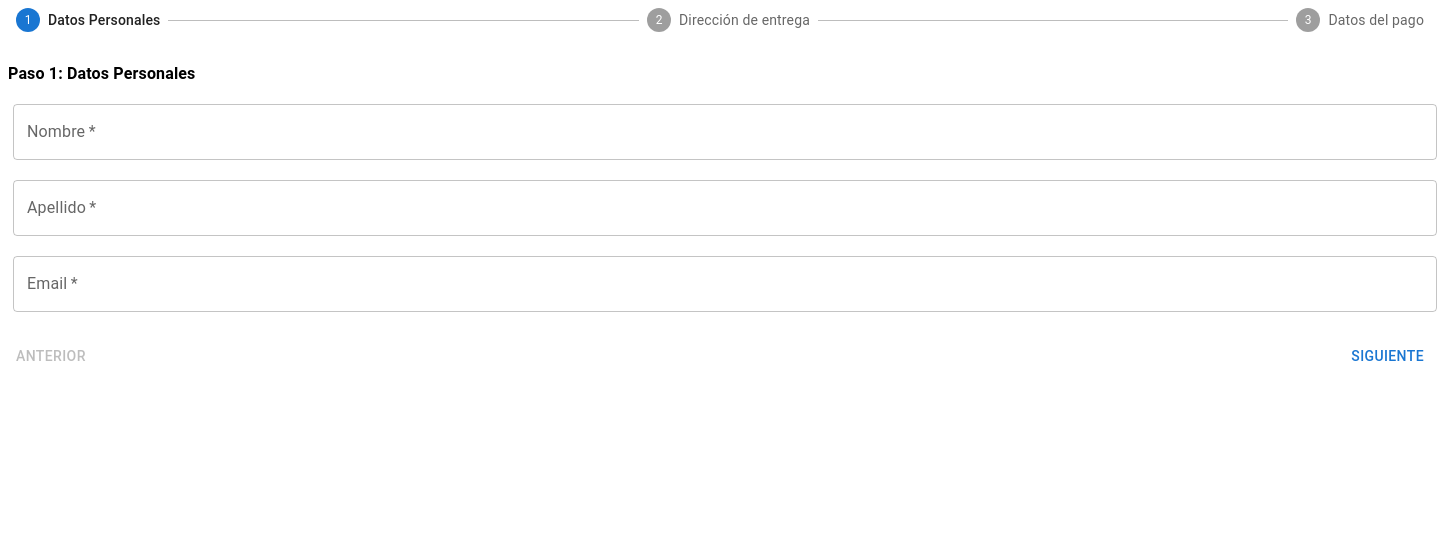
Scenario: Stepper.spec.tsx › when filling form › should navigate to next and previous form
Check: the button "Anterior" has attribute disabled, box top-left (8, 338), bottom-right (94, 374)
In the field labelled "Nombre *": (725, 132) top-left (13, 104), bottom-right (1437, 160), type "Sara"
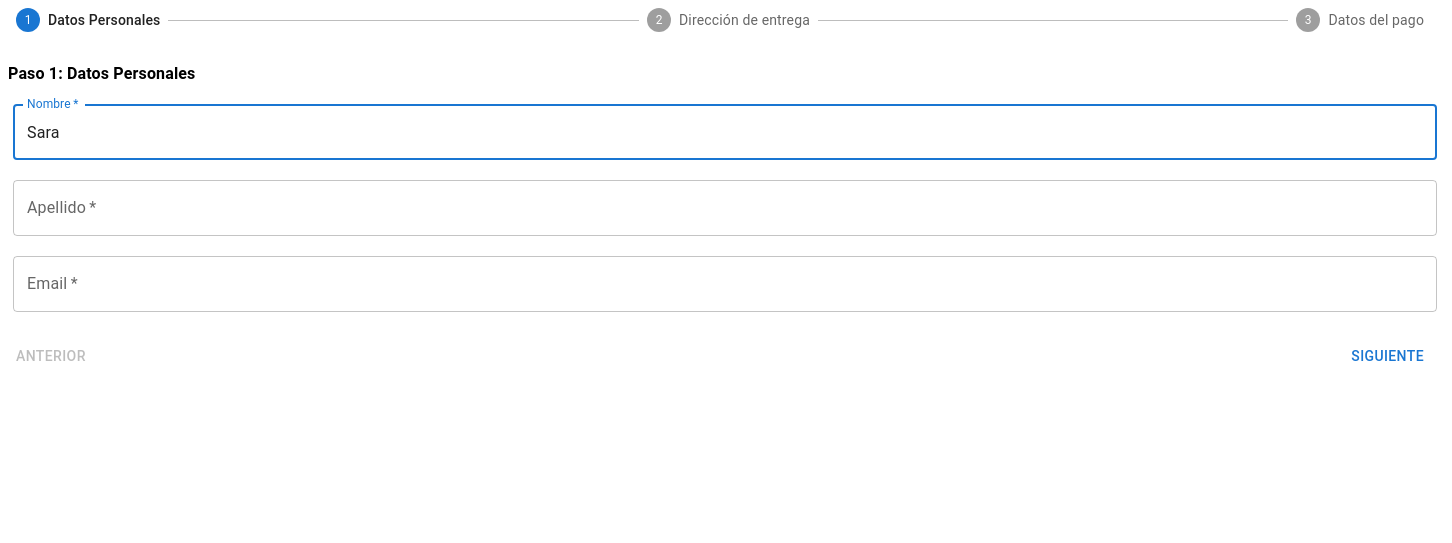
In the field labelled "Apellido *": (725, 208) top-left (13, 180), bottom-right (1437, 236), type "Ramírez"
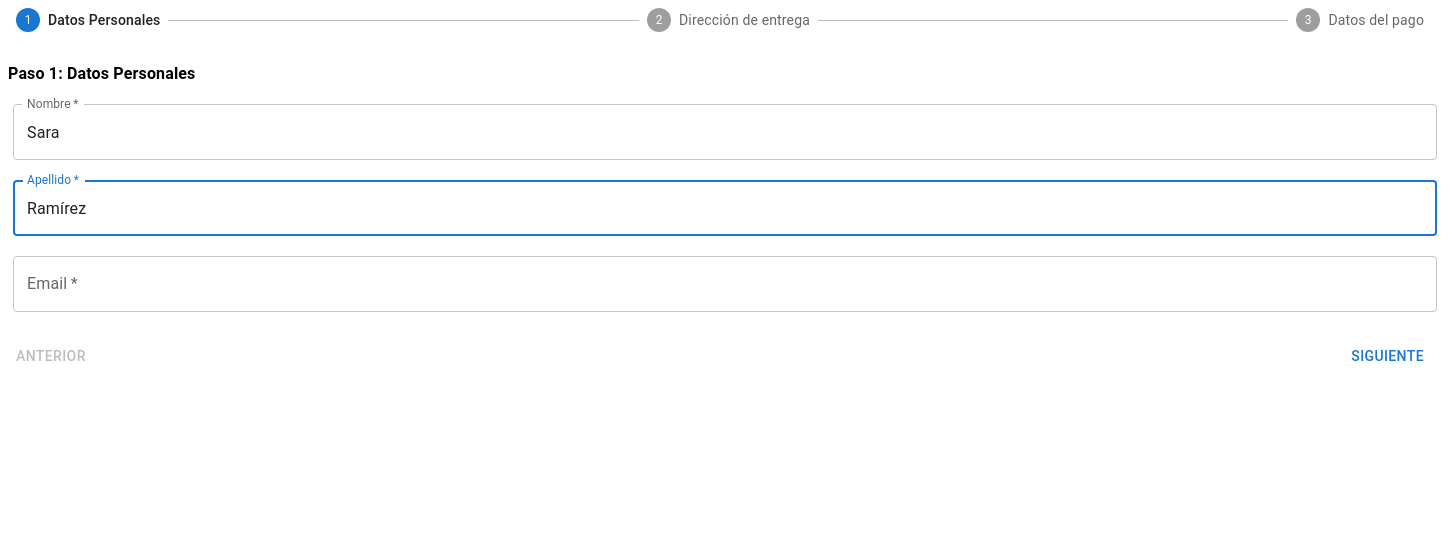
In the field labelled "Email *": (725, 284) top-left (13, 256), bottom-right (1437, 312), type "uwu@gmail.com"
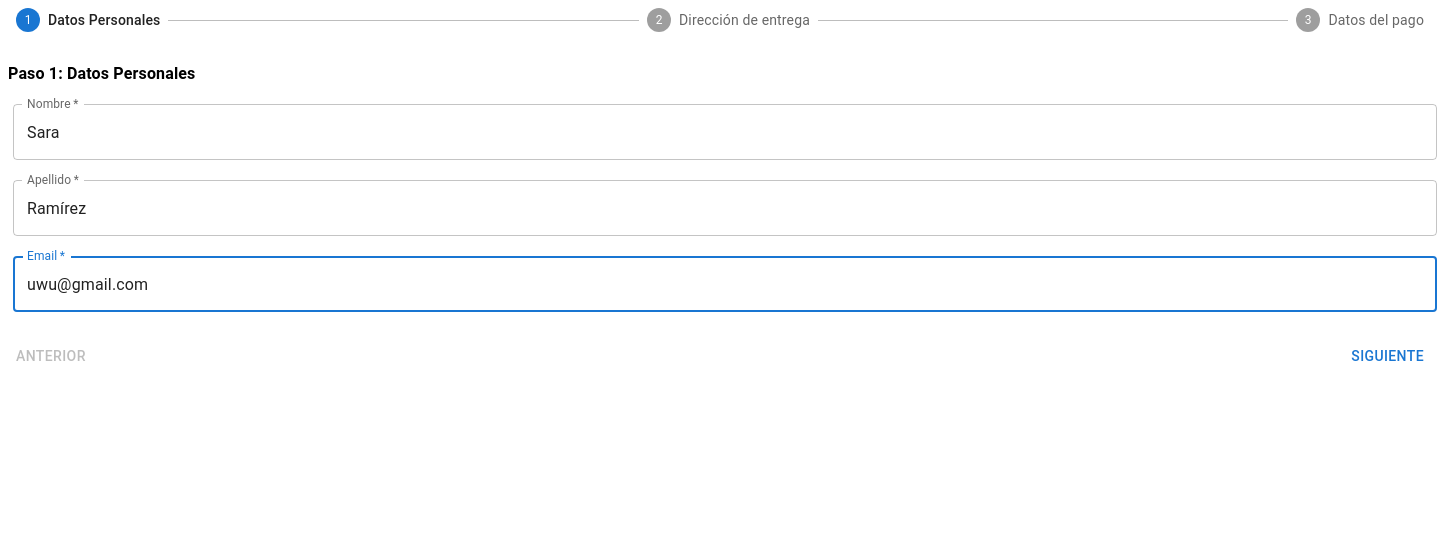
Click the button "Siguiente": (1388, 356) top-left (1343, 338), bottom-right (1432, 374)
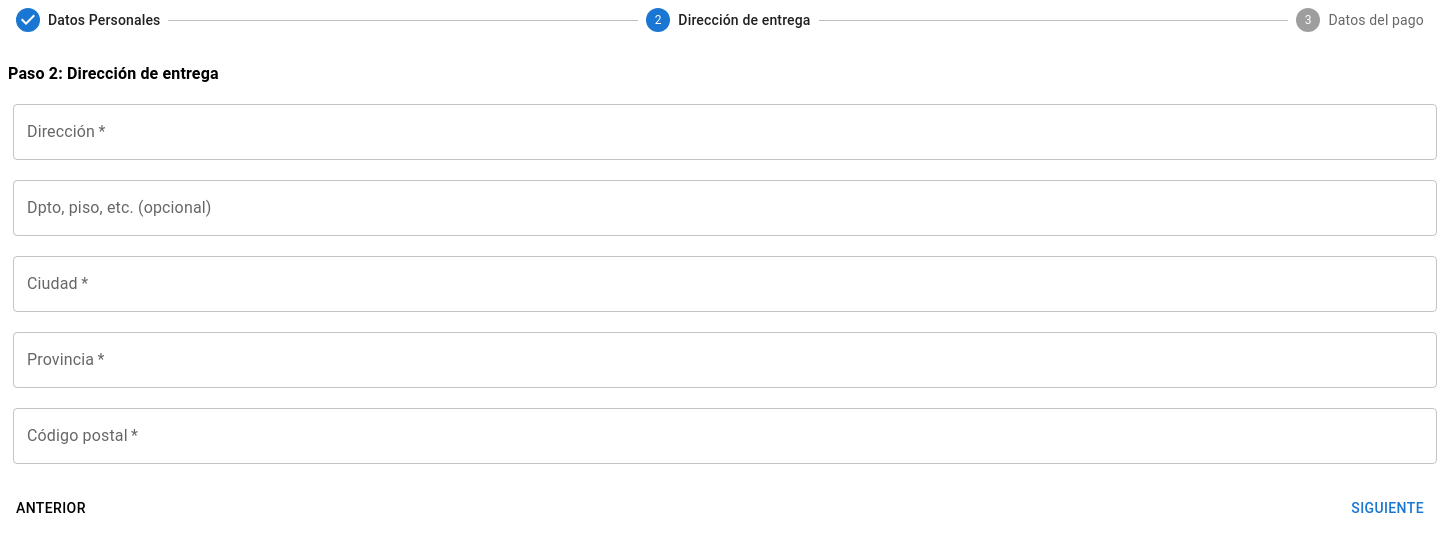
Check: the text "Paso 2: Dirección de entrega" is shown, box top-left (8, 64), bottom-right (219, 83)
Click the button "Anterior": (51, 508) top-left (8, 490), bottom-right (94, 526)
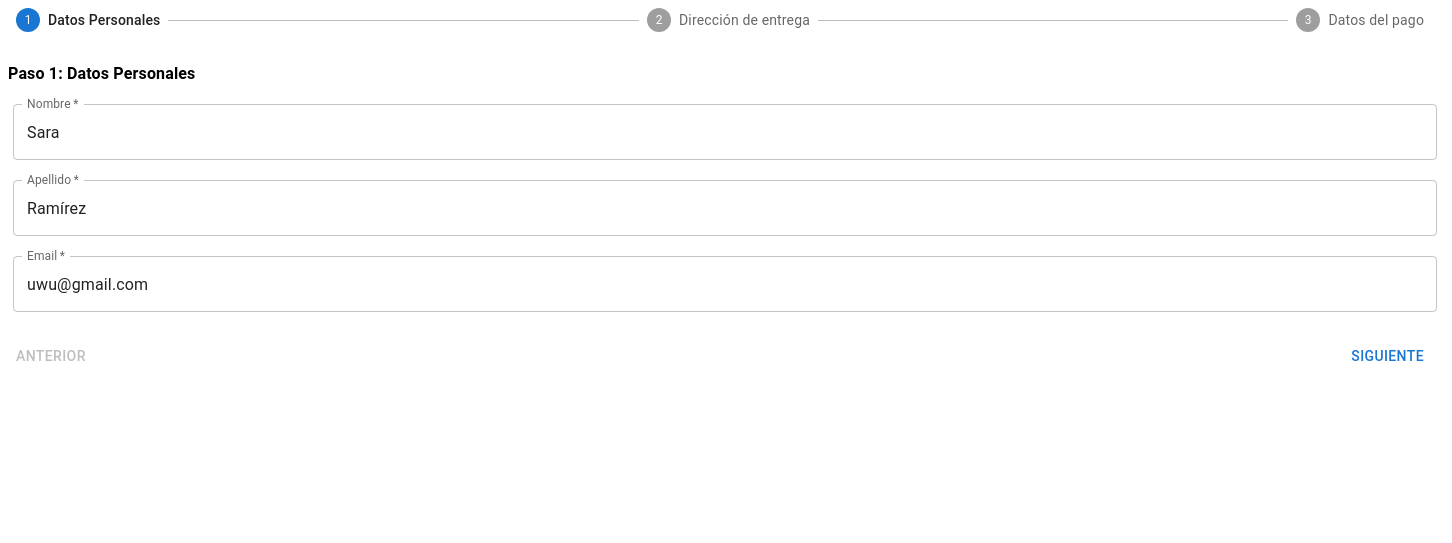
Check: the text "Paso 1: Datos Personales" is shown, box top-left (8, 64), bottom-right (196, 83)
Click the button "Siguiente": (1388, 356) top-left (1343, 338), bottom-right (1432, 374)
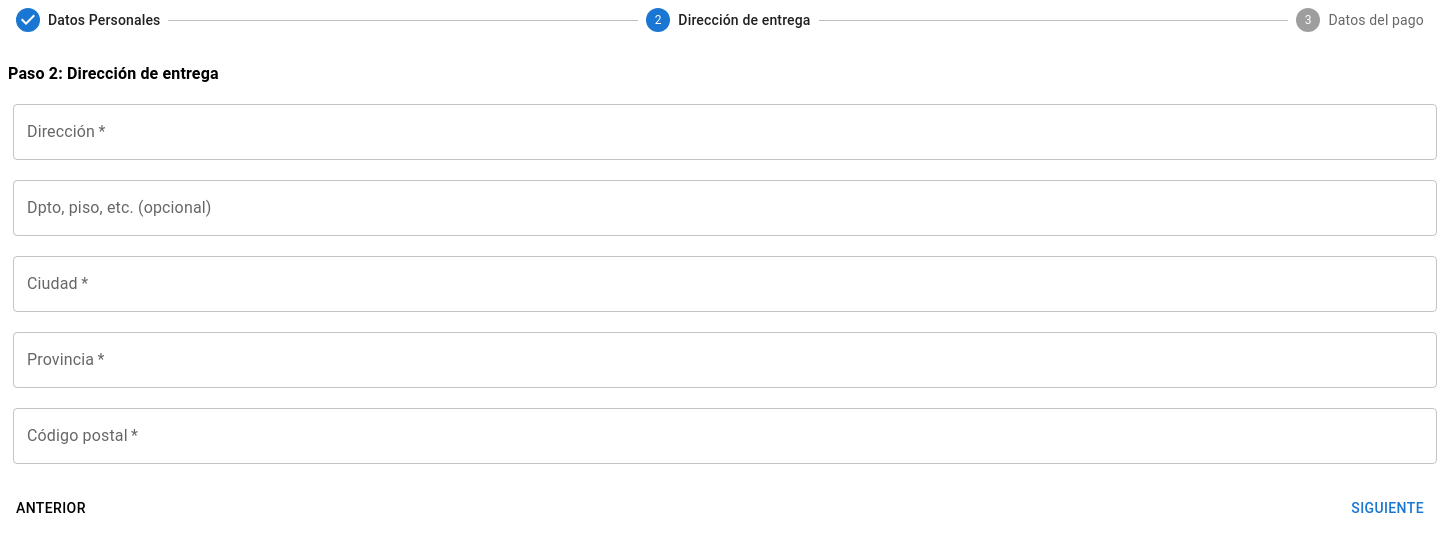
Check: the text "Paso 2: Dirección de entrega" is shown, box top-left (8, 64), bottom-right (219, 83)
